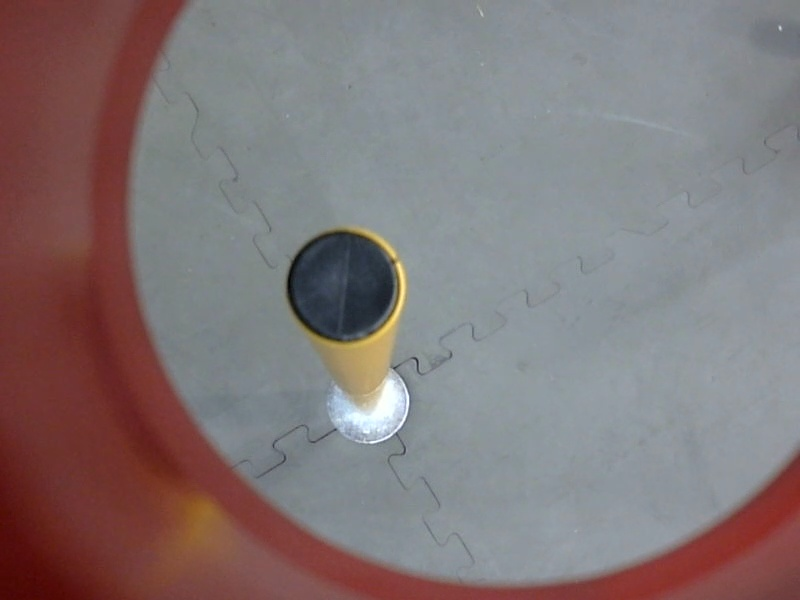tip: (278, 215, 413, 355)
